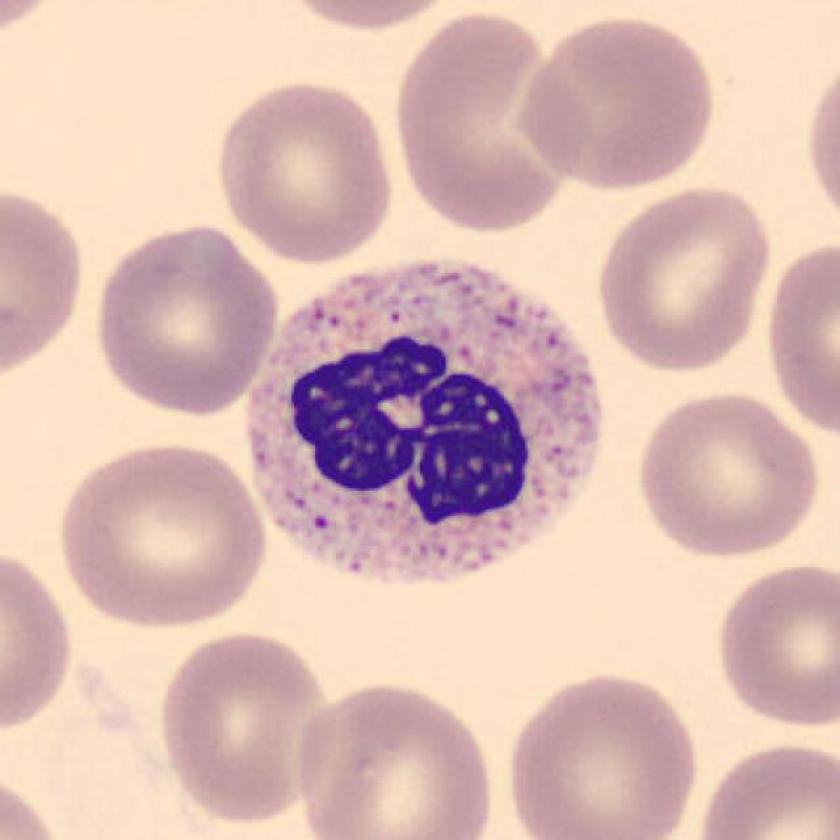neutrophil: (245, 262, 604, 581)
